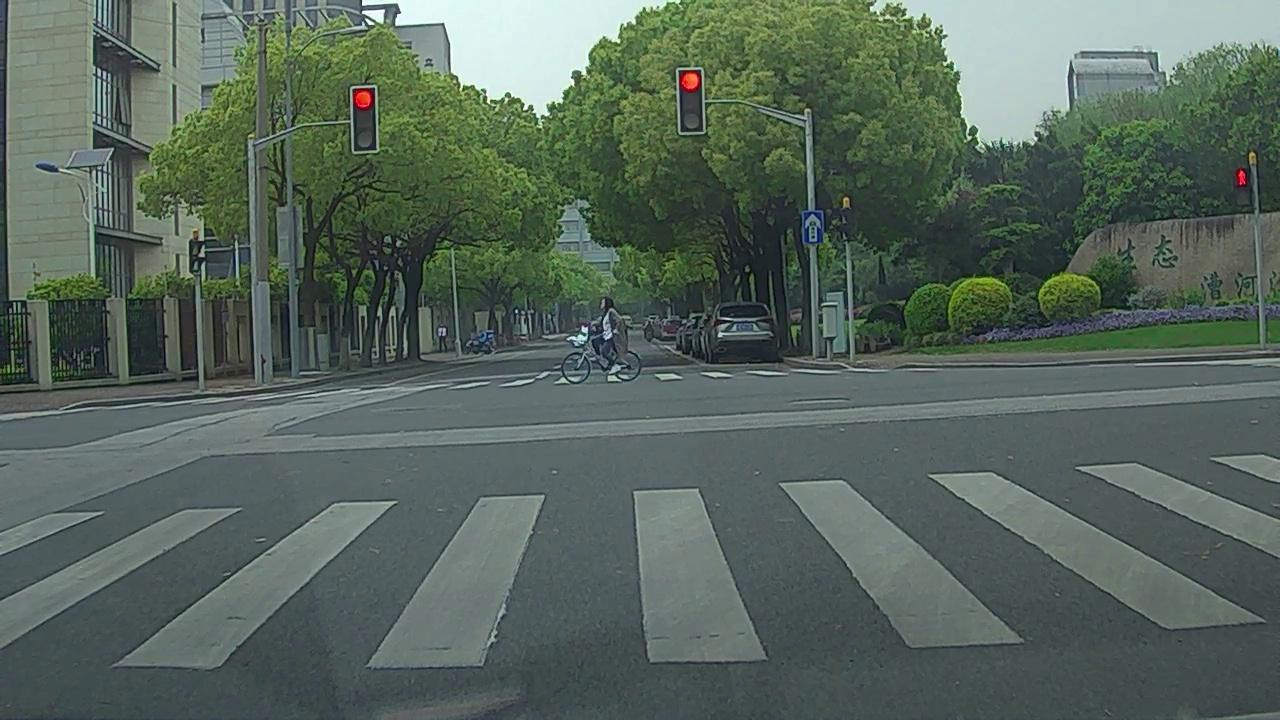traffic_light: (351, 85, 378, 154), (675, 70, 703, 134)
